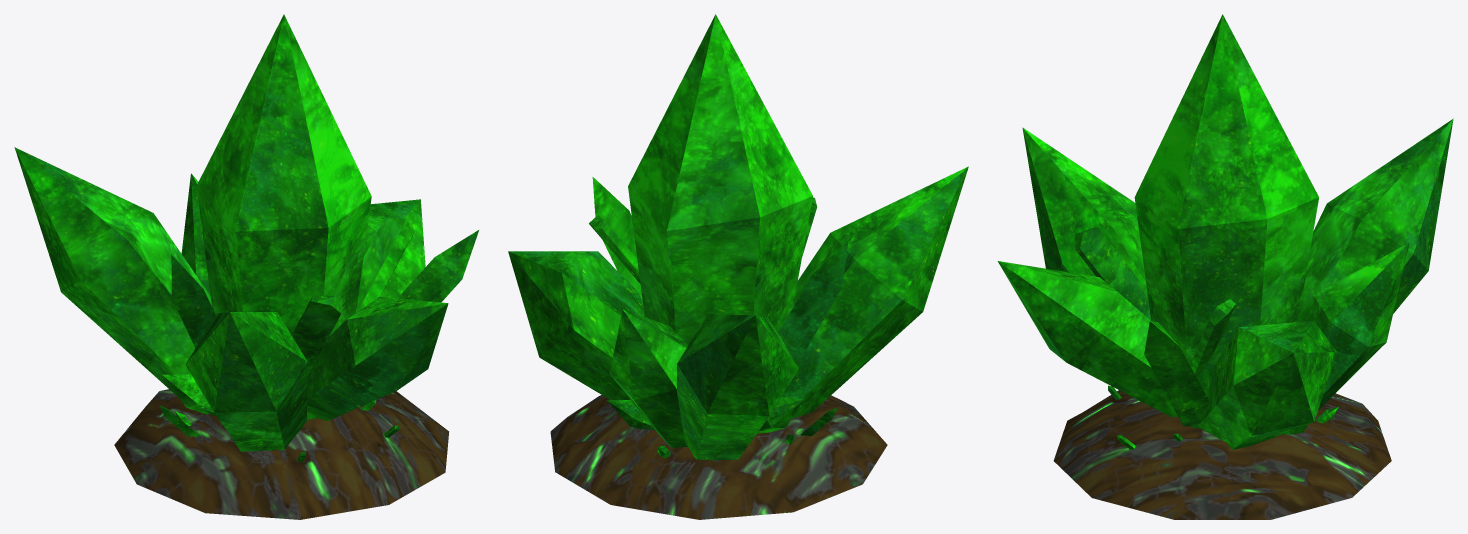
File: kristalGreen.gltf
The picture shows the model from 3 angles, left to right: view 1: azimuth 30°, elevation 25°; view 2: azimuth 150°, elevation 25°; view 3: azimuth 270°, elevation 25°; orthographic projection.
Visible parts, largest first — view 1: Crystal_type1; view 2: Crystal_type1; view 3: Crystal_type1.
Part boxes in pixels (box(x1,y1,x2,y2)): Crystal_type1: box(14, 14, 478, 519); Crystal_type1: box(508, 14, 968, 519); Crystal_type1: box(997, 14, 1453, 519).
Size of the model in its own units: 5.16 by 6.55 by 6.2.
Materials: 1 (1 with a texture image).
